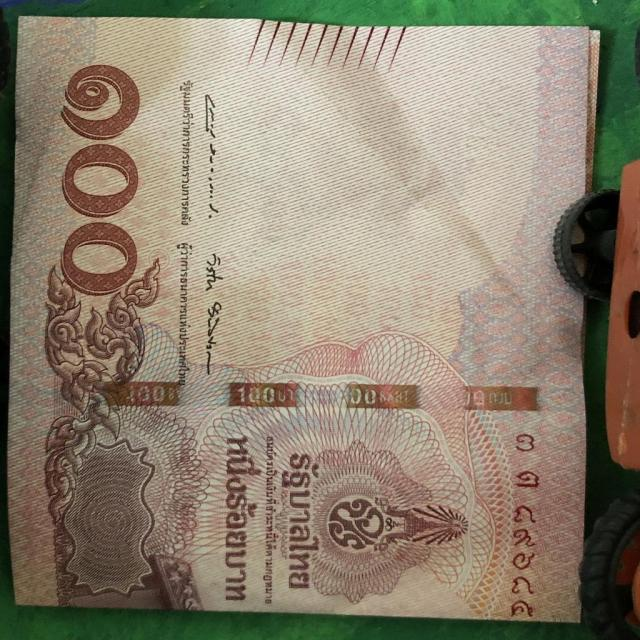THAI100: (6, 16, 601, 625)
